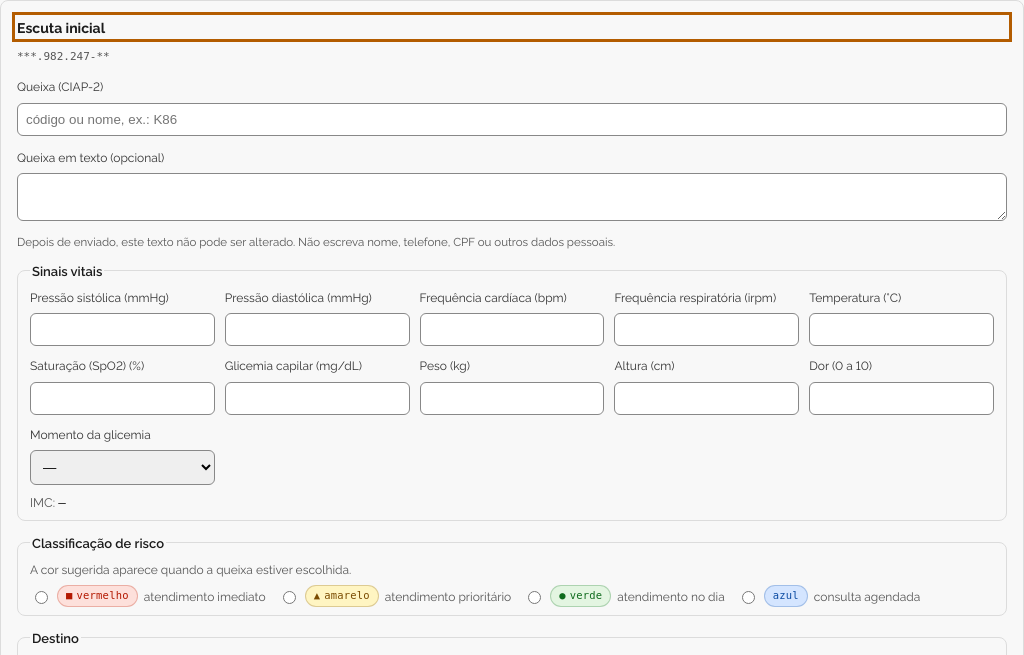
Test: ScreeningForm — concluir › resposta velha da sugestão é descartada
Type "hipertensão" into the field labelled "Queixa (CIAP-2)" at coordinates (512, 119), box [17,103,1007,136]
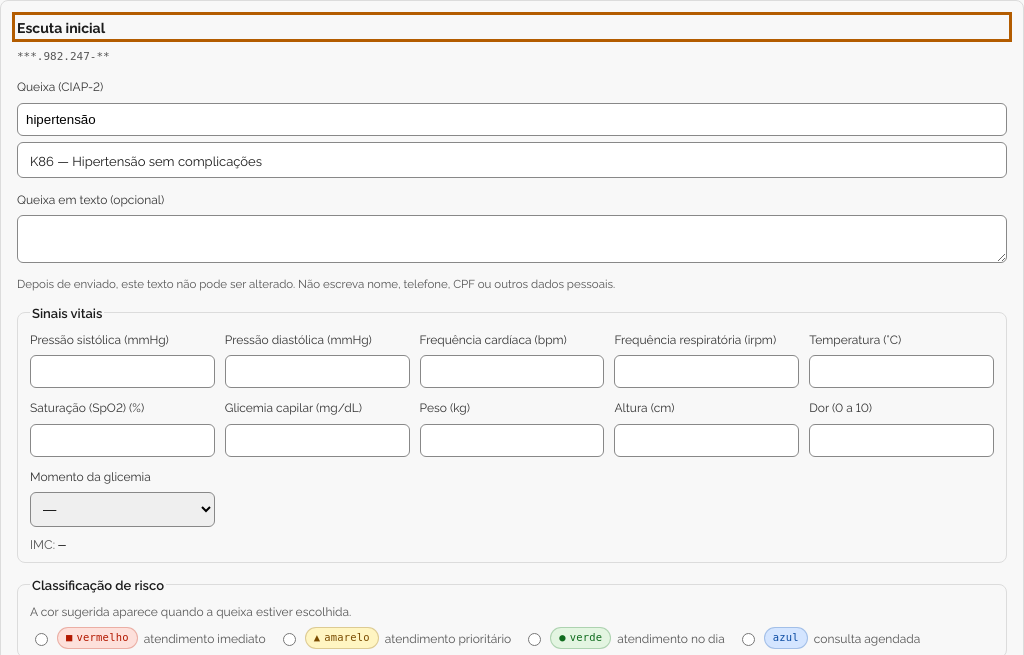
Click the button "K86 — Hipertensão sem complicações" at coordinates (146, 160), box [17,142,1007,178]
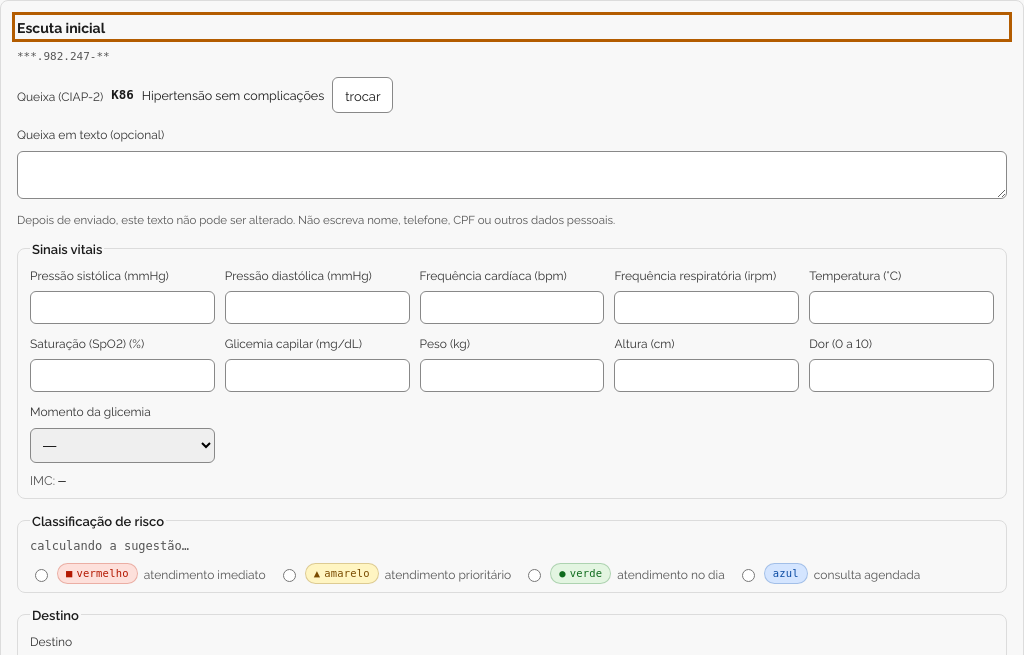
Type "39,2" into the field labelled "Temperatura (°C)" at coordinates (902, 308), box [809,291,994,324]
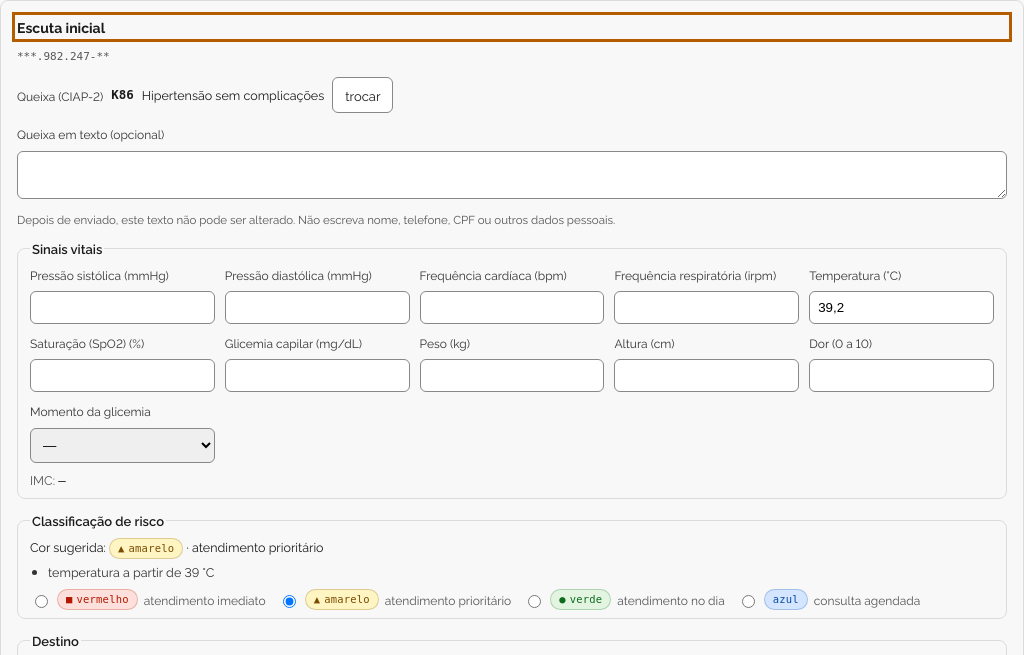
Result: the list item "temperatura a partir de 39 °C" is shown at [48,563,214,580]
Result: the message shows "amarelo" at [129,542,174,554]
